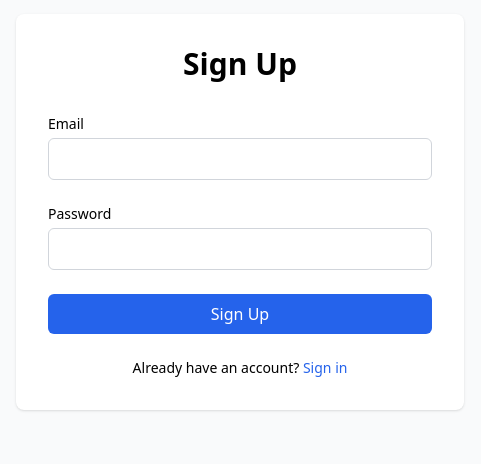
Test: Signup Page › displays error message on signup failure
The width and height of the screenshot is (481, 464).
Step 1. Type "existing@example.com" into the field labelled "Email" → (240, 159), box [48, 138, 432, 180]
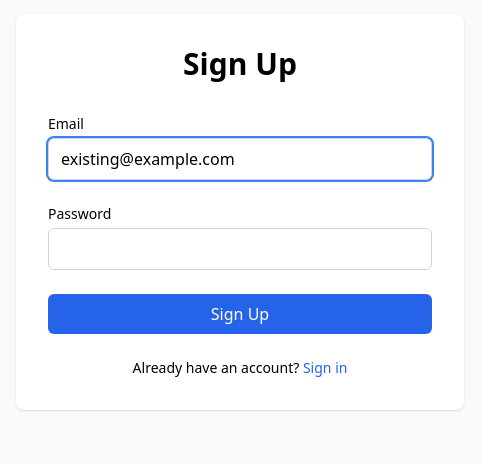
Step 2. Type "password123" into the password field labelled "Password" → (240, 249), box [48, 228, 432, 270]
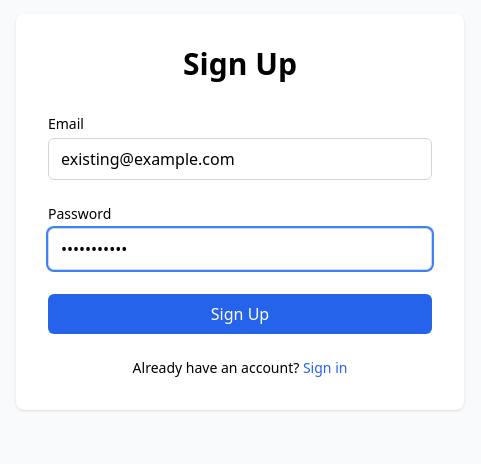
Step 3. Click the button "Sign Up" → (240, 314), box [48, 294, 432, 334]
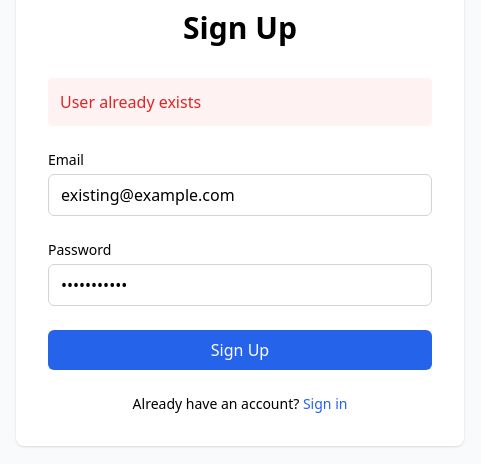
Expected: the text "User already exists" is shown, [48, 78, 432, 126]
